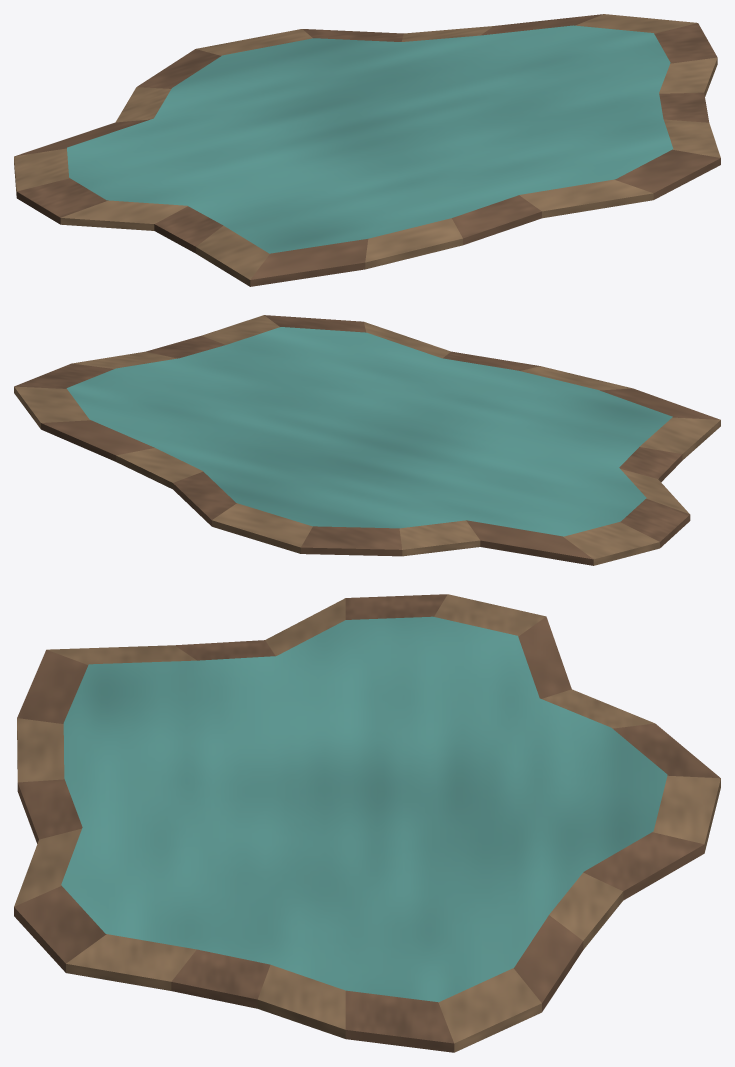
Rendered from puddle_02.fbx.
The picture shows the model from 3 angles, top to bottom: view 1: azimuth 30°, elevation 25°; view 2: azimuth 150°, elevation 25°; view 3: azimuth 270°, elevation 25°; orthographic projection. The views are drawn at different scales.
Visible parts, largest first — view 1: puddle_02; view 2: puddle_02; view 3: puddle_02.
Boxes of the visible parts, <box> form: puddle_02: <box>14,14,720,286</box>; puddle_02: <box>14,315,720,565</box>; puddle_02: <box>14,594,720,1052</box>.
Size of the model in its own units: 191 by 3.5 by 127.
2 materials, 2 textured.
